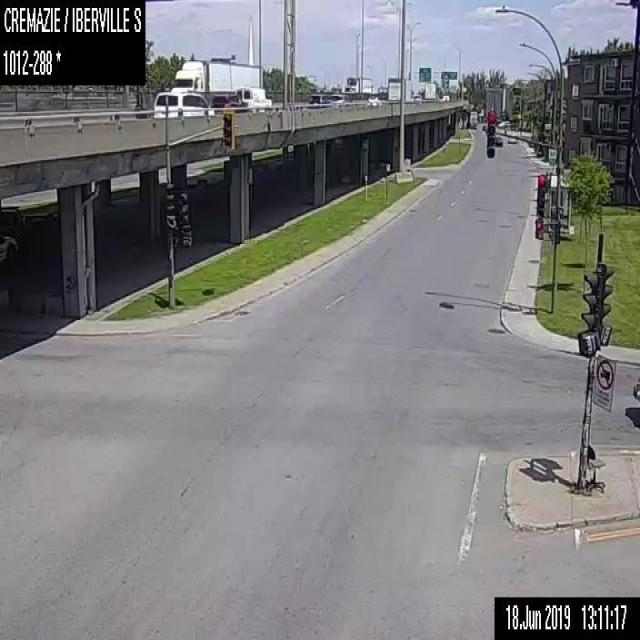vehicle: (171, 58, 262, 106), (153, 90, 214, 116), (22, 210, 59, 245), (234, 85, 272, 109), (210, 93, 248, 113), (0, 207, 22, 238), (387, 76, 413, 101), (0, 233, 17, 265), (345, 75, 372, 92), (418, 81, 436, 100), (306, 92, 328, 105), (328, 92, 349, 105), (631, 372, 639, 401), (367, 93, 382, 104), (468, 110, 476, 128), (376, 84, 387, 96), (494, 135, 502, 146), (330, 84, 342, 91), (507, 133, 516, 142), (438, 94, 448, 102), (413, 93, 421, 102)
